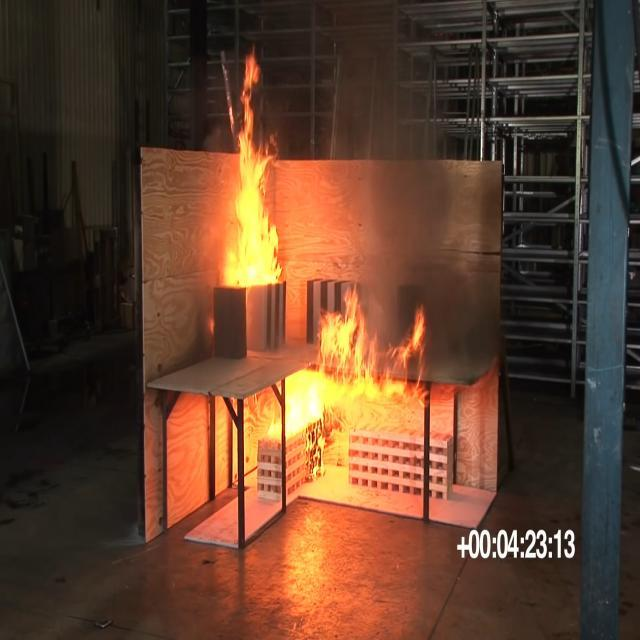Fire: (215, 54, 288, 280), (307, 296, 422, 413)
Smoke: (360, 83, 504, 326)
